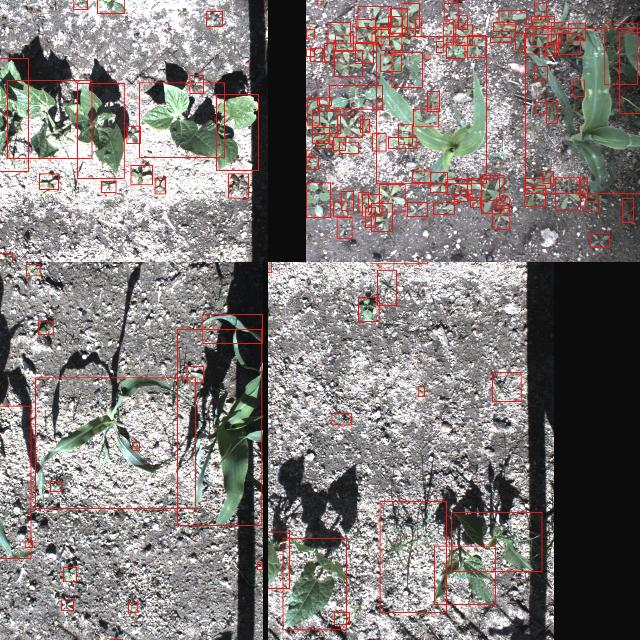crop: (34, 377, 196, 508), (525, 27, 640, 192), (176, 329, 262, 525), (376, 36, 486, 182), (7, 80, 92, 158), (138, 82, 224, 156), (282, 537, 346, 629), (451, 511, 542, 571), (76, 82, 124, 178), (0, 405, 30, 558), (434, 544, 494, 604), (216, 94, 258, 170), (0, 57, 27, 170), (619, 31, 640, 112), (202, 314, 262, 342), (268, 531, 289, 587)
weed: (379, 501, 445, 612), (604, 22, 636, 84), (328, 84, 382, 108), (391, 52, 422, 86), (481, 175, 503, 213), (306, 182, 330, 216), (492, 372, 520, 401), (556, 177, 580, 209), (334, 50, 362, 76), (378, 183, 404, 211), (376, 269, 396, 305), (357, 6, 391, 27), (467, 178, 499, 200), (311, 110, 339, 134), (524, 34, 556, 54), (371, 203, 392, 231), (336, 114, 362, 136), (381, 26, 402, 50), (558, 32, 580, 54), (228, 173, 248, 197), (355, 18, 375, 42), (358, 297, 378, 321), (401, 2, 419, 28), (412, 108, 438, 126), (326, 22, 349, 42), (532, 19, 548, 47), (130, 164, 152, 184), (361, 194, 381, 216), (524, 184, 544, 206), (466, 34, 486, 56), (492, 205, 510, 229), (445, 178, 471, 194), (389, 8, 406, 32), (498, 10, 526, 24), (355, 43, 373, 63), (96, 0, 123, 13), (388, 136, 417, 148), (429, 172, 446, 192), (568, 22, 586, 40), (38, 173, 58, 189), (380, 54, 400, 70), (456, 24, 472, 44), (306, 98, 318, 124), (336, 216, 350, 238), (622, 198, 634, 222), (334, 35, 352, 51), (371, 28, 389, 44), (446, 42, 464, 58), (185, 366, 203, 382), (590, 232, 610, 246), (406, 202, 426, 216), (397, 123, 411, 143), (524, 177, 550, 187), (206, 10, 222, 26), (312, 126, 328, 142), (126, 125, 140, 143), (189, 75, 203, 93), (432, 202, 453, 214), (442, 22, 453, 44), (340, 190, 352, 210), (338, 142, 358, 154), (426, 91, 438, 111), (530, 16, 554, 26), (550, 22, 562, 42), (387, 15, 401, 32), (412, 170, 431, 182), (443, 3, 457, 19), (332, 201, 348, 215), (371, 134, 385, 150), (62, 566, 76, 582), (546, 100, 556, 122), (358, 191, 368, 211), (365, 207, 375, 227), (323, 42, 333, 62), (331, 414, 351, 424), (493, 22, 515, 31), (534, 65, 548, 79), (154, 177, 166, 193), (100, 180, 116, 192), (572, 79, 584, 95), (38, 321, 52, 334), (585, 200, 599, 212), (534, 2, 546, 16), (495, 196, 509, 208), (332, 136, 344, 150), (25, 263, 39, 275), (334, 612, 348, 624), (579, 178, 587, 198), (514, 33, 524, 49), (309, 48, 321, 61), (61, 598, 73, 610), (457, 15, 467, 29), (454, 190, 468, 200), (534, 101, 546, 112), (315, 140, 331, 148), (73, 0, 87, 9), (359, 118, 368, 132), (305, 158, 317, 168), (543, 170, 553, 182), (490, 36, 510, 42), (545, 44, 555, 56), (317, 97, 331, 105), (415, 18, 421, 36), (470, 197, 480, 207), (50, 481, 60, 491), (305, 28, 313, 38), (128, 601, 136, 611), (436, 40, 442, 51), (305, 48, 313, 56), (418, 386, 424, 396), (24, 540, 32, 546), (132, 442, 138, 450), (450, 199, 458, 203), (306, 149, 310, 155), (258, 562, 262, 568), (316, 0, 322, 2)
